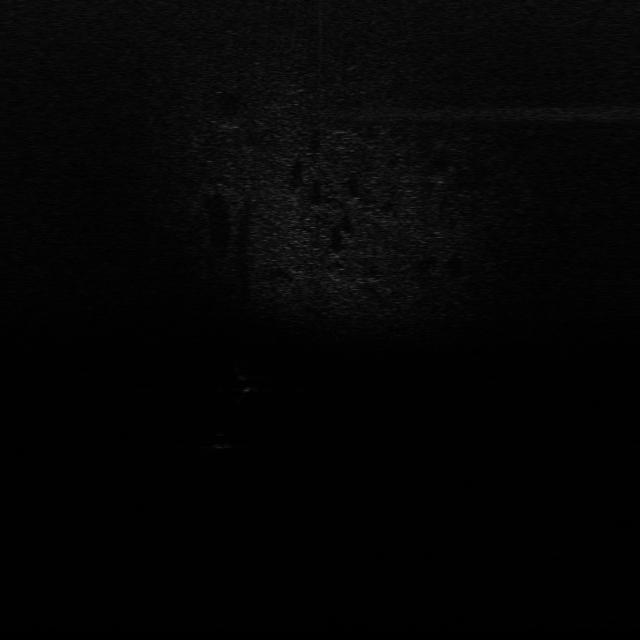ball: (209, 430, 232, 450)
human body: (232, 362, 260, 408)
